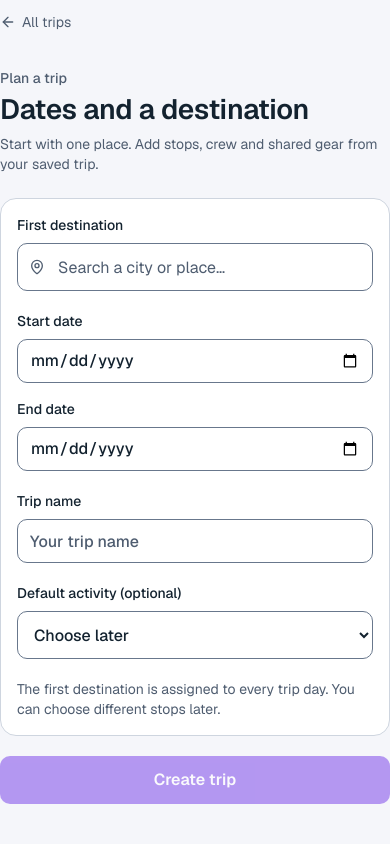
Test case: Single-form trip creation › creates a solo trip with one destination and optional activity, then opens its stable overview
This screenshot has width=390, height=844.
Type "Stowe" into the dropdown labelled "First destination" at point(195, 267), box [17, 243, 373, 291]
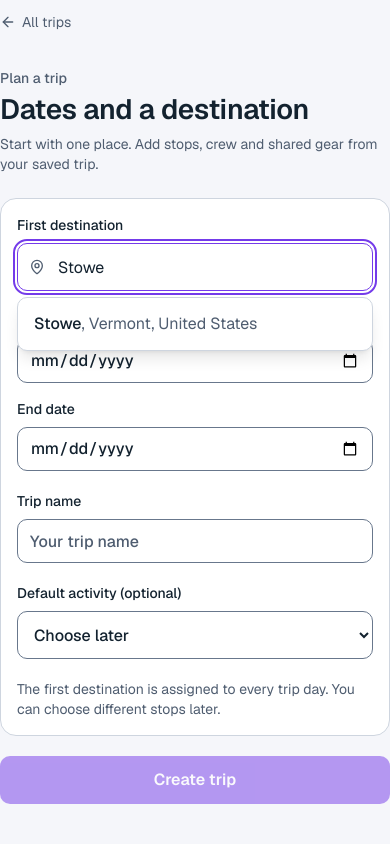
Click the option "Stowe, Vermont, United States" at point(146, 324), box [34, 313, 257, 334]
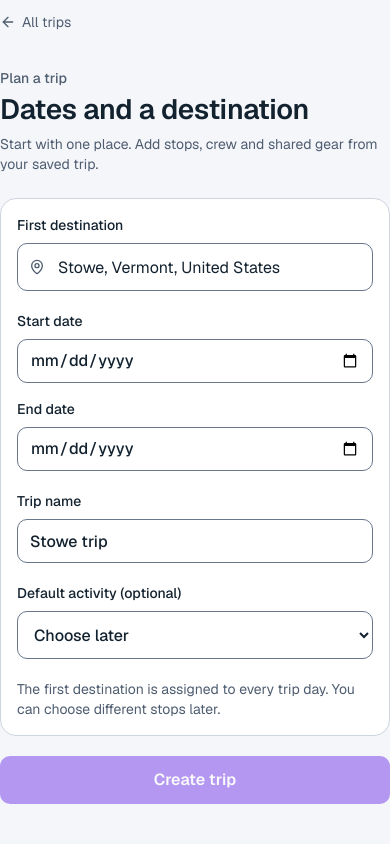
Type "2026-10-10" into the date field labelled "Start date" at point(195, 361), box [17, 339, 373, 383]
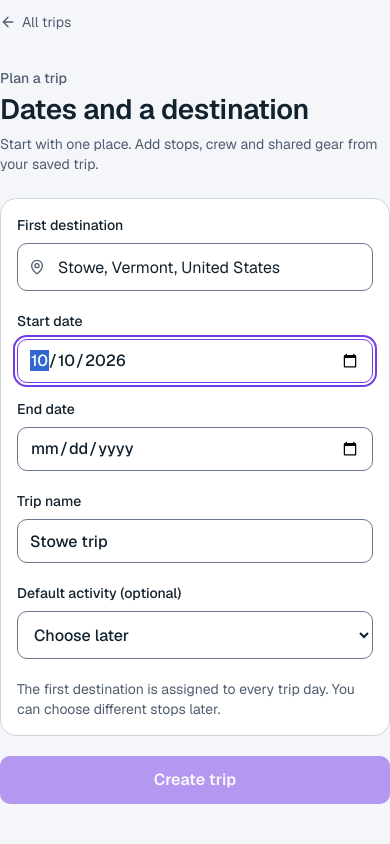
Type "2026-10-12" into the date field labelled "End date" at point(195, 449), box [17, 427, 373, 471]
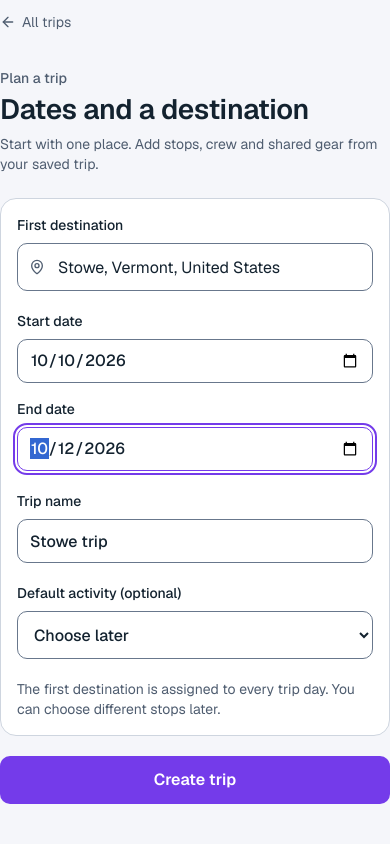
Now the field labelled "Trip name" holds "Stowe trip", box [17, 519, 373, 563]
Select "Downhill skiing" in the dropdown labelled "Default activity (optional)" at point(195, 635), box [17, 611, 373, 659]
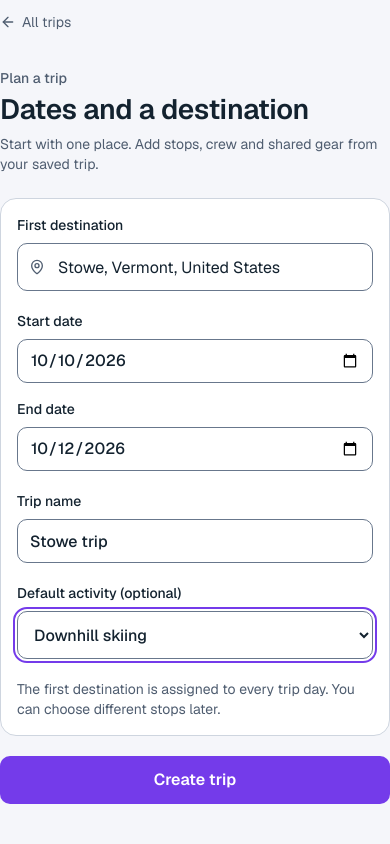
Click the button "Create trip" at point(195, 780), box [0, 756, 389, 804]
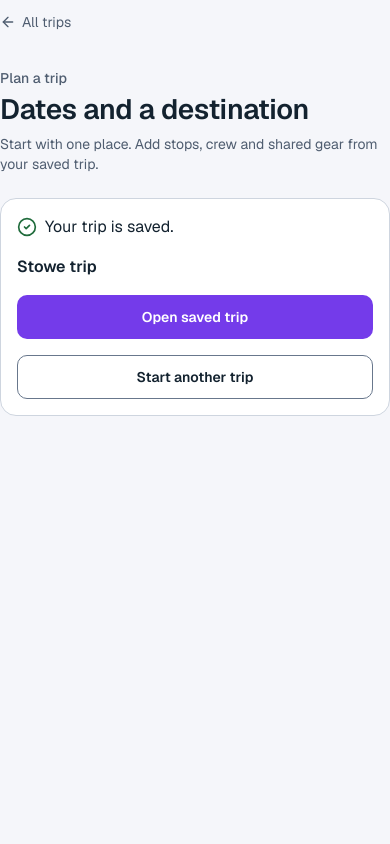
Now the message shows "Your trip is saved", box [45, 216, 173, 237]
